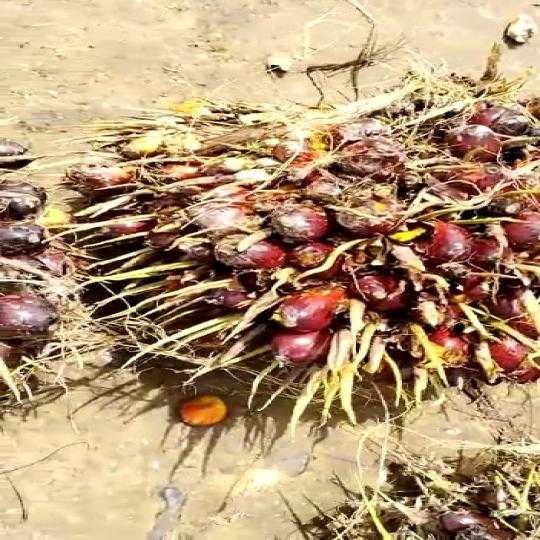masak: (77, 59, 540, 439)
